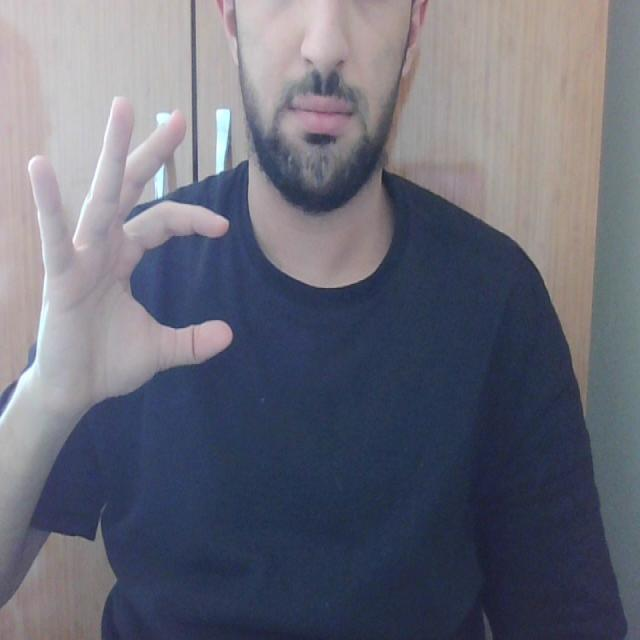Tuvalet: (12, 74, 254, 412)
